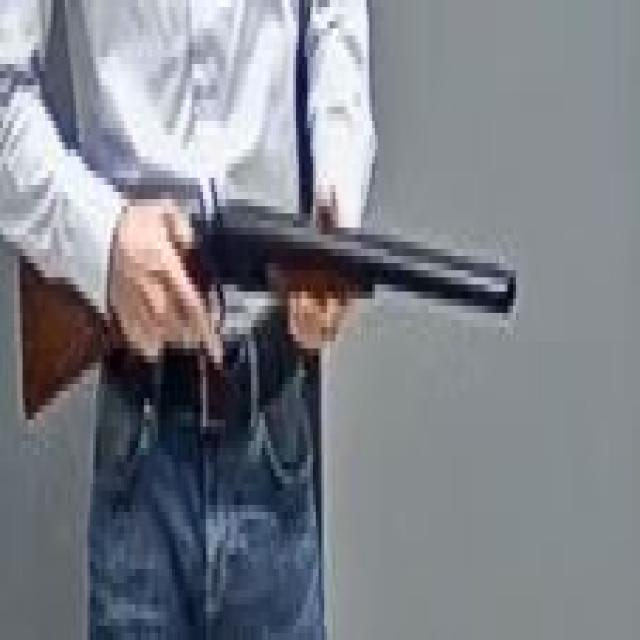-Gun: (22, 204, 516, 425)
